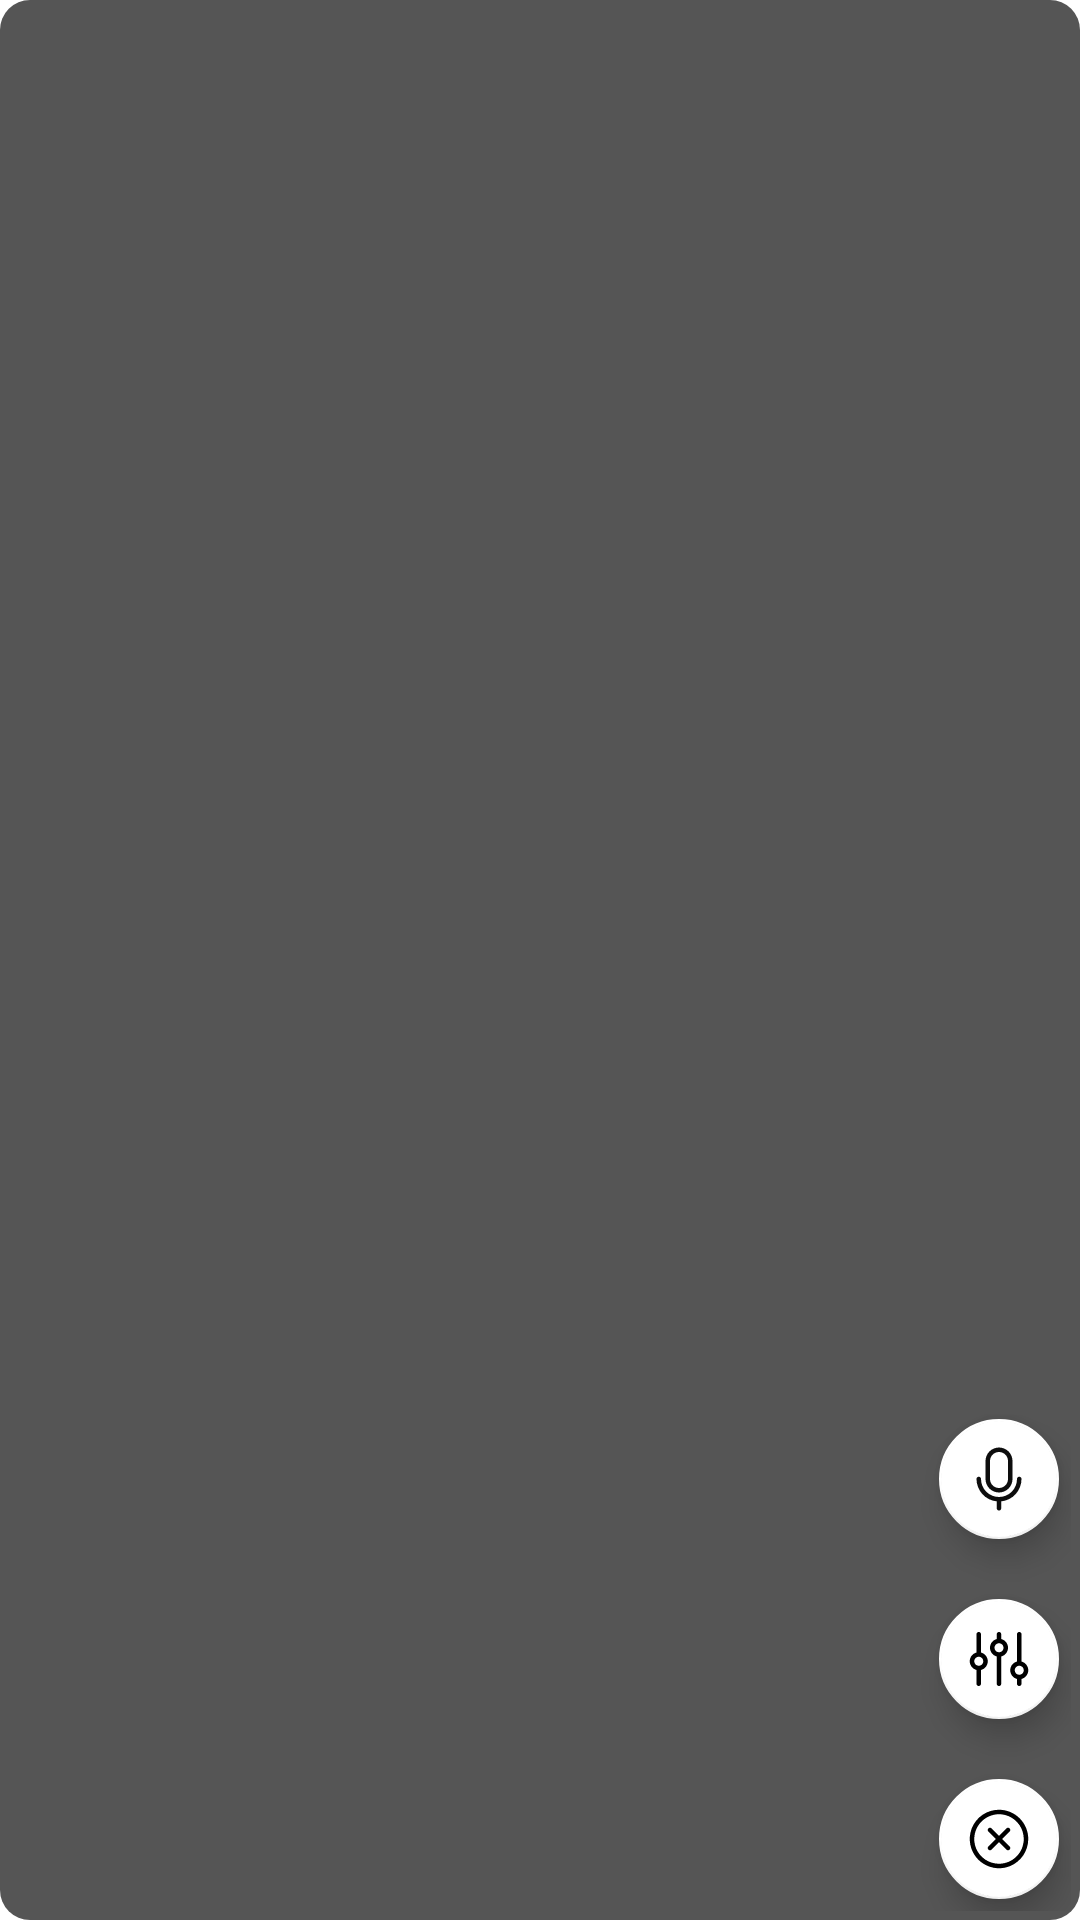

Named icons in this screenshot (1080 x 1920) and their bounding boxes, (x1, y1, x2, y2):
close: (939, 1779, 1059, 1899)
record: (939, 1419, 1059, 1539)
setting: (939, 1599, 1059, 1719)
